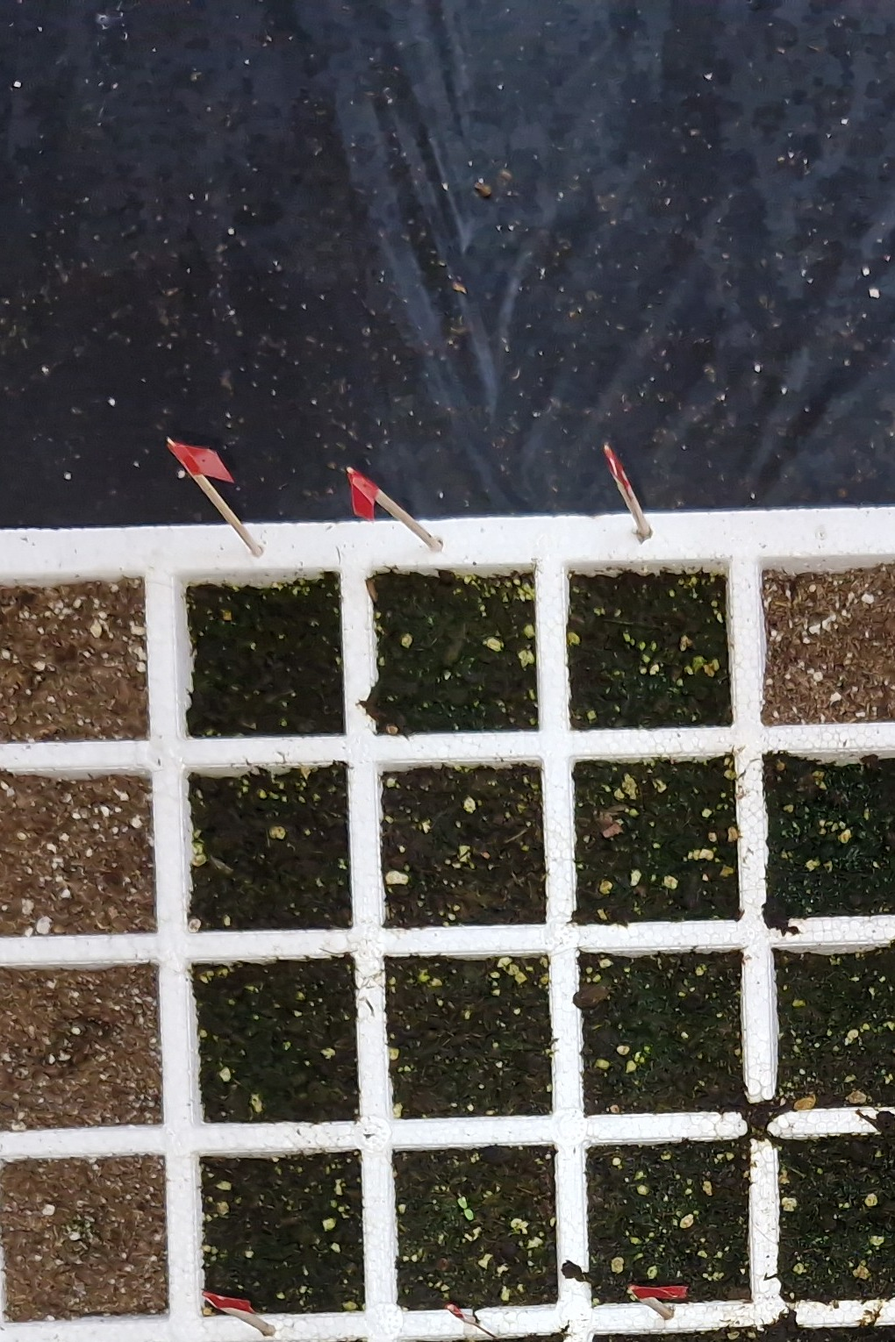Folha: (463, 1209, 474, 1221), (458, 1196, 468, 1209)
Germinacao: (458, 1196, 474, 1220)
